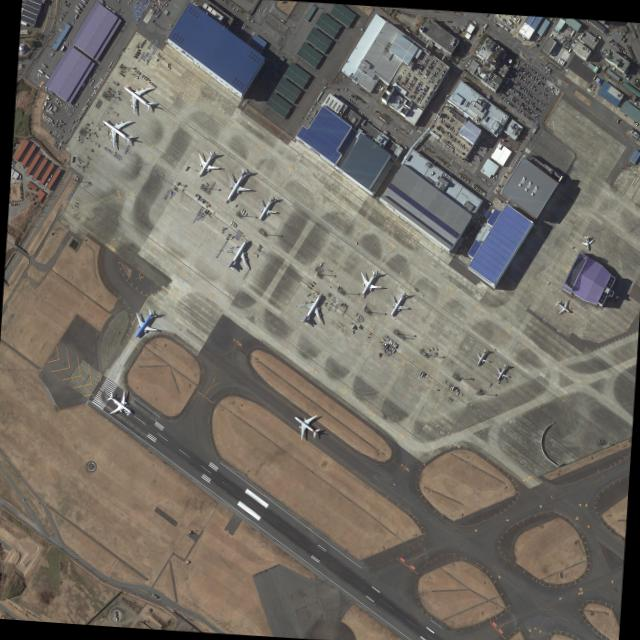large-vehicle: (78, 0, 85, 7), (76, 4, 83, 10), (74, 7, 81, 13), (307, 281, 313, 286), (633, 119, 639, 124), (633, 100, 638, 105), (496, 182, 501, 187), (492, 21, 497, 26), (516, 17, 520, 23), (483, 22, 487, 28), (60, 44, 64, 50), (41, 62, 46, 66), (306, 284, 311, 288), (163, 8, 167, 13), (472, 19, 477, 23), (615, 117, 619, 122), (44, 180, 48, 185), (512, 16, 517, 20), (507, 19, 512, 23), (119, 68, 123, 72), (106, 88, 110, 92), (107, 85, 111, 89), (111, 88, 115, 92), (429, 345, 433, 349), (492, 346, 496, 350), (546, 280, 550, 284), (111, 8, 115, 12), (512, 18, 516, 22), (82, 0, 87, 3), (165, 9, 168, 14), (502, 174, 507, 177), (47, 176, 50, 181), (109, 92, 113, 95), (165, 1, 168, 5), (110, 91, 114, 94), (66, 3, 69, 7), (420, 293, 424, 296), (327, 284, 331, 287), (448, 383, 451, 387), (76, 159, 80, 162), (497, 379, 500, 383), (488, 92, 491, 96), (462, 38, 466, 41), (625, 76, 629, 79), (494, 188, 498, 191), (505, 170, 509, 173), (434, 346, 437, 349), (105, 110, 108, 113), (102, 122, 105, 125), (503, 376, 506, 379), (634, 122, 637, 125), (105, 4, 108, 7), (108, 6, 111, 9), (50, 173, 53, 176), (355, 240, 357, 244), (503, 379, 507, 381), (100, 0, 104, 2), (502, 17, 504, 21), (314, 109, 316, 112), (309, 118, 311, 121), (313, 111, 315, 114), (315, 108, 317, 111), (64, 0, 67, 2), (488, 383, 490, 386), (516, 16, 518, 19), (310, 116, 312, 118), (312, 114, 314, 116), (13, 180, 15, 182), (117, 0, 119, 1)
plane: (91, 102, 142, 158), (112, 70, 161, 123), (213, 160, 257, 211), (289, 283, 334, 331), (215, 228, 257, 278), (125, 299, 167, 348), (188, 138, 229, 186), (285, 402, 326, 448), (349, 260, 388, 304), (100, 382, 139, 426), (381, 280, 419, 323), (250, 186, 285, 227), (469, 341, 495, 370), (490, 357, 515, 384), (551, 293, 575, 318), (581, 232, 594, 251)
small-vehicle: (424, 98, 428, 102), (420, 104, 424, 107), (225, 0, 228, 4), (247, 16, 250, 20), (229, 3, 232, 7), (235, 7, 238, 11), (71, 19, 74, 23), (22, 496, 25, 500), (63, 10, 67, 13), (463, 177, 466, 181), (448, 125, 451, 129), (466, 179, 469, 183), (487, 181, 490, 185), (458, 142, 461, 146), (471, 183, 474, 187), (412, 137, 416, 140), (447, 107, 450, 111), (394, 126, 397, 130), (549, 32, 552, 36), (555, 86, 558, 90), (636, 67, 640, 70), (550, 88, 553, 92), (537, 107, 540, 111), (531, 103, 534, 107), (551, 91, 554, 95), (536, 79, 539, 83), (543, 94, 546, 98), (623, 50, 626, 54), (234, 202, 237, 206), (436, 79, 440, 82), (506, 99, 509, 103), (509, 86, 512, 90), (422, 101, 426, 104), (425, 96, 428, 100), (428, 92, 431, 96), (431, 87, 435, 90), (527, 64, 530, 68), (532, 118, 535, 122), (525, 113, 528, 117), (522, 87, 525, 91), (515, 70, 518, 74), (408, 87, 411, 90), (408, 73, 411, 76), (413, 79, 416, 82), (412, 80, 415, 83), (408, 82, 411, 85), (407, 84, 410, 87), (405, 78, 408, 81), (404, 79, 407, 82), (403, 81, 406, 84), (403, 67, 406, 70), (416, 88, 419, 91), (417, 81, 420, 84), (419, 83, 422, 86), (418, 85, 421, 88), (417, 87, 420, 90), (415, 90, 418, 93), (412, 90, 415, 93), (410, 93, 413, 96), (409, 94, 412, 97), (413, 92, 416, 95), (411, 96, 414, 99), (413, 74, 416, 77), (401, 70, 404, 73), (478, 157, 481, 160), (473, 145, 476, 148), (477, 156, 480, 159), (466, 62, 469, 65), (479, 155, 482, 158), (472, 149, 475, 152), (480, 132, 483, 135), (467, 60, 470, 63), (516, 155, 519, 158), (515, 157, 518, 160), (514, 159, 517, 162), (468, 58, 471, 61), (417, 99, 420, 102), (435, 71, 438, 74), (434, 73, 437, 76), (428, 64, 431, 67), (427, 65, 430, 68), (426, 66, 429, 69), (425, 67, 428, 70), (431, 58, 434, 61), (434, 58, 437, 61), (437, 68, 440, 71), (427, 70, 430, 73), (426, 71, 429, 74), (438, 67, 441, 70), (415, 98, 418, 101), (441, 71, 444, 74), (442, 70, 445, 73), (444, 66, 447, 69), (465, 21, 468, 24), (464, 23, 467, 26), (445, 19, 448, 22), (435, 65, 438, 68), (429, 62, 432, 65), (440, 62, 443, 65), (440, 63, 443, 66), (419, 68, 422, 71), (416, 97, 419, 100), (424, 89, 427, 92), (423, 90, 426, 93), (420, 67, 423, 70), (421, 65, 424, 68), (422, 64, 425, 67), (427, 79, 430, 82), (424, 56, 427, 59), (422, 59, 425, 62), (419, 64, 422, 67), (224, 0, 227, 3), (306, 113, 309, 116), (304, 116, 307, 119), (282, 34, 285, 37), (237, 18, 240, 21), (239, 20, 242, 23), (236, 24, 239, 27), (241, 25, 244, 28), (236, 33, 239, 36), (234, 28, 237, 31), (232, 6, 235, 9), (231, 5, 234, 8), (465, 63, 468, 66), (439, 249, 442, 252), (62, 13, 65, 16), (63, 36, 66, 39), (51, 51, 54, 54), (50, 53, 53, 56), (307, 111, 310, 114), (459, 174, 462, 177), (458, 173, 461, 176), (457, 126, 460, 129), (452, 118, 455, 121), (446, 130, 449, 133), (451, 128, 454, 131), (452, 135, 455, 138), (452, 138, 455, 141), (445, 164, 448, 167), (449, 109, 452, 112), (465, 139, 468, 142), (460, 144, 463, 147), (465, 147, 468, 150), (458, 154, 461, 157), (480, 176, 483, 179), (482, 177, 485, 180), (483, 192, 486, 195), (479, 189, 482, 192), (475, 187, 478, 190), (474, 186, 477, 189), (472, 184, 475, 187), (450, 142, 453, 145), (422, 146, 425, 149), (365, 104, 368, 107), (431, 124, 434, 127), (439, 128, 442, 131), (440, 126, 443, 129), (439, 74, 442, 77), (438, 77, 441, 80), (601, 48, 604, 51), (601, 47, 604, 50), (602, 46, 605, 49), (591, 86, 594, 89), (556, 30, 559, 33), (562, 35, 565, 38), (613, 43, 616, 46), (601, 52, 604, 55), (563, 36, 566, 39), (529, 99, 532, 102), (532, 104, 535, 107), (525, 99, 528, 102), (523, 98, 526, 101), (531, 109, 534, 112), (545, 88, 548, 91), (543, 85, 546, 88), (542, 90, 545, 93), (541, 93, 544, 96), (530, 85, 533, 88), (532, 95, 535, 98), (535, 97, 538, 100), (426, 37, 429, 40), (561, 34, 564, 37), (425, 38, 428, 41), (518, 90, 521, 93), (413, 64, 416, 67), (430, 60, 433, 63), (628, 72, 631, 75), (629, 71, 632, 74), (613, 40, 616, 43), (617, 42, 620, 45), (620, 48, 623, 51), (116, 91, 119, 94), (382, 348, 385, 351), (505, 93, 508, 96), (510, 97, 513, 100), (504, 92, 507, 95), (504, 98, 507, 101), (513, 90, 516, 93), (519, 94, 522, 97), (514, 96, 517, 99), (500, 88, 503, 91), (499, 90, 502, 93), (497, 92, 500, 95), (430, 88, 433, 91), (433, 84, 436, 87), (506, 85, 509, 88), (542, 67, 545, 70), (545, 70, 548, 73), (539, 74, 542, 77), (534, 70, 537, 73), (532, 69, 535, 72), (529, 66, 532, 69), (522, 61, 525, 64), (515, 63, 518, 66), (514, 65, 517, 68), (511, 85, 514, 88), (504, 132, 507, 135), (503, 131, 506, 134), (535, 34, 538, 37), (534, 35, 537, 38), (521, 20, 524, 23), (518, 108, 521, 111), (510, 24, 513, 27), (506, 22, 509, 25), (517, 108, 520, 111), (531, 112, 534, 115), (525, 108, 528, 111), (523, 106, 526, 109), (531, 118, 534, 121), (530, 117, 533, 120), (512, 77, 515, 80), (513, 78, 516, 81), (521, 87, 524, 90), (531, 76, 534, 79), (528, 71, 531, 74), (526, 73, 529, 76), (525, 69, 528, 72), (523, 67, 526, 70), (246, 15, 248, 19), (490, 173, 492, 177), (482, 191, 484, 195), (477, 187, 479, 191), (350, 92, 352, 96), (620, 79, 622, 83), (545, 95, 547, 99), (548, 94, 550, 98), (533, 86, 535, 90), (508, 100, 510, 104), (506, 98, 508, 102), (543, 76, 545, 80), (538, 72, 540, 76), (536, 71, 538, 75), (524, 62, 526, 66), (520, 58, 522, 62), (519, 33, 521, 37), (522, 69, 524, 73), (517, 71, 519, 75), (414, 78, 416, 81), (412, 81, 414, 84), (411, 83, 414, 85), (410, 84, 413, 86), (406, 86, 409, 88), (407, 75, 409, 78), (411, 78, 414, 80), (406, 77, 408, 80), (404, 80, 406, 83), (402, 83, 405, 85), (401, 80, 404, 82), (404, 75, 407, 77), (407, 71, 410, 73), (399, 74, 402, 76), (417, 82, 419, 85), (415, 85, 418, 87), (414, 87, 417, 89), (420, 81, 423, 83), (413, 89, 416, 91), (412, 76, 415, 78), (413, 94, 416, 96), (412, 95, 415, 97), (414, 77, 417, 79), (398, 75, 401, 77), (480, 134, 483, 136), (478, 137, 481, 139), (477, 138, 480, 140), (476, 140, 479, 142), (475, 141, 478, 143), (475, 142, 478, 144), (473, 144, 476, 146), (481, 155, 483, 158), (478, 153, 480, 156), (473, 150, 475, 153), (472, 152, 474, 155), (397, 77, 400, 79), (397, 78, 399, 81), (511, 165, 514, 167), (479, 144, 482, 146), (481, 141, 484, 143), (483, 141, 486, 143), (480, 146, 483, 148), (479, 148, 482, 150), (490, 139, 492, 142), (489, 141, 492, 143), (488, 143, 491, 145), (485, 147, 488, 149), (484, 149, 487, 151), (482, 152, 485, 154), (418, 80, 421, 82), (425, 69, 428, 71), (432, 57, 434, 60), (432, 62, 435, 64), (431, 64, 434, 66), (430, 65, 433, 67), (429, 67, 432, 69), (428, 69, 430, 72), (450, 19, 452, 22), (440, 74, 443, 76), (441, 72, 443, 75), (443, 69, 445, 72), (444, 67, 446, 70), (462, 25, 465, 27), (457, 25, 459, 28), (438, 61, 441, 63), (437, 63, 439, 66), (439, 65, 442, 67), (432, 71, 435, 73), (431, 73, 434, 75), (417, 96, 420, 98), (425, 83, 427, 86), (424, 85, 427, 87), (423, 86, 426, 88), (423, 87, 426, 89), (422, 88, 425, 90), (421, 89, 424, 91), (420, 91, 423, 93), (419, 92, 422, 94), (418, 94, 421, 96), (417, 95, 420, 97), (427, 85, 430, 87), (423, 91, 425, 94), (422, 92, 424, 95), (420, 96, 423, 98), (421, 66, 423, 69), (429, 76, 432, 78), (431, 77, 433, 80), (430, 79, 433, 81), (428, 79, 431, 81), (423, 71, 426, 73), (425, 55, 427, 58), (423, 58, 426, 60), (421, 61, 424, 63), (421, 62, 423, 65), (426, 58, 429, 60), (425, 60, 427, 63), (424, 62, 427, 64), (423, 63, 426, 65), (438, 76, 441, 78), (223, 0, 226, 2), (305, 115, 307, 118), (258, 7, 260, 10), (234, 24, 236, 27), (242, 24, 245, 26), (240, 27, 243, 29), (239, 29, 242, 31), (9, 202, 11, 205), (62, 13, 65, 15), (60, 16, 63, 18), (52, 68, 54, 71), (52, 50, 54, 53), (50, 53, 53, 55), (44, 35, 46, 38), (8, 202, 10, 205), (13, 202, 15, 205), (309, 108, 312, 110), (445, 130, 448, 132), (454, 132, 457, 134), (443, 104, 446, 106), (451, 125, 454, 127), (451, 116, 454, 118), (447, 125, 449, 128), (446, 124, 448, 127), (445, 123, 447, 126), (448, 131, 450, 134), (450, 127, 452, 130), (451, 137, 453, 140), (455, 151, 457, 154), (452, 149, 454, 152), (442, 161, 444, 164), (461, 175, 463, 178), (467, 140, 469, 143), (462, 145, 464, 148), (494, 175, 497, 177), (489, 182, 491, 185), (484, 178, 486, 181), (441, 161, 443, 164), (448, 140, 450, 143), (351, 93, 353, 96), (430, 125, 433, 127), (355, 102, 357, 105), (353, 101, 355, 104), (350, 98, 352, 101), (355, 96, 357, 99), (348, 97, 350, 100), (352, 94, 354, 97), (443, 138, 445, 141), (349, 92, 351, 95), (336, 87, 338, 90), (314, 100, 317, 102), (313, 101, 316, 103), (312, 103, 315, 105), (310, 106, 313, 108), (432, 123, 435, 125), (432, 122, 435, 124), (433, 120, 436, 122), (449, 118, 452, 120), (448, 122, 450, 125), (445, 114, 447, 117), (452, 111, 454, 114), (451, 110, 453, 113), (446, 106, 448, 109), (440, 109, 443, 111), (438, 127, 440, 130), (437, 126, 439, 129), (437, 123, 439, 126), (440, 119, 442, 122), (442, 118, 444, 121), (440, 116, 442, 119), (597, 64, 600, 66), (597, 54, 600, 56), (598, 53, 601, 55), (599, 51, 602, 53), (604, 48, 607, 50), (608, 75, 610, 78), (624, 112, 627, 114), (599, 64, 601, 67), (594, 83, 596, 86), (593, 84, 595, 87), (551, 35, 553, 38), (554, 28, 556, 31), (555, 29, 557, 32), (602, 51, 605, 53), (636, 60, 638, 63), (612, 42, 614, 45), (611, 41, 613, 44), (610, 40, 612, 43), (609, 40, 612, 42), (609, 39, 611, 42), (610, 37, 612, 40), (638, 84, 640, 87), (635, 57, 637, 60), (629, 43, 631, 46), (635, 24, 637, 27), (615, 28, 618, 30), (601, 53, 603, 56), (530, 102, 532, 105), (535, 106, 537, 109), (541, 107, 543, 110), (539, 109, 541, 112), (534, 105, 536, 108), (533, 105, 536, 107), (531, 103, 533, 106), (529, 101, 531, 104), (526, 96, 528, 99), (528, 101, 530, 104), (525, 98, 527, 101), (528, 107, 530, 110), (524, 103, 526, 106), (525, 104, 527, 107), (526, 105, 528, 108), (530, 108, 532, 111), (538, 78, 540, 81), (534, 79, 536, 82), (545, 92, 547, 95), (540, 83, 542, 86), (537, 99, 539, 102), (538, 90, 540, 93), (542, 102, 544, 105), (529, 89, 531, 92), (527, 92, 530, 94), (540, 97, 542, 100), (540, 100, 542, 103), (615, 44, 617, 47), (616, 46, 619, 48), (449, 119, 452, 121), (448, 30, 451, 32), (439, 20, 442, 22), (94, 60, 97, 62), (618, 46, 620, 49), (420, 53, 423, 55), (419, 55, 422, 57), (537, 107, 539, 110), (521, 102, 524, 104), (529, 111, 531, 114), (518, 93, 520, 96), (527, 70, 529, 73), (627, 74, 630, 76), (637, 63, 639, 66), (612, 38, 614, 41), (615, 41, 618, 43), (620, 44, 622, 47), (622, 49, 624, 52), (387, 352, 389, 355), (528, 135, 531, 137), (520, 149, 523, 151), (536, 112, 538, 115), (518, 99, 520, 102), (517, 101, 519, 104), (516, 100, 518, 103), (515, 100, 517, 103), (512, 98, 514, 101), (510, 96, 512, 99), (509, 96, 511, 99), (508, 95, 510, 98), (507, 94, 509, 97), (506, 94, 508, 97), (505, 89, 507, 92), (514, 105, 516, 108), (513, 104, 515, 107), (512, 104, 514, 107), (510, 102, 512, 105), (509, 101, 511, 104), (507, 100, 509, 103), (503, 97, 505, 100), (516, 98, 519, 100), (503, 92, 506, 94), (515, 88, 517, 91), (517, 90, 520, 92), (520, 91, 522, 94), (522, 93, 524, 96), (519, 94, 521, 97), (517, 92, 519, 95), (515, 91, 517, 94), (511, 88, 513, 91), (510, 87, 512, 90), (508, 86, 510, 89), (513, 95, 515, 98), (511, 94, 513, 97), (508, 92, 510, 95), (502, 96, 504, 99), (537, 113, 539, 116), (507, 77, 509, 80), (505, 80, 508, 82), (504, 82, 507, 84), (502, 85, 505, 87), (500, 89, 502, 92), (508, 74, 511, 76), (427, 94, 430, 96), (429, 91, 432, 93), (433, 85, 435, 88), (434, 83, 437, 85), (435, 82, 438, 84), (435, 81, 438, 83), (436, 80, 439, 82), (507, 77, 510, 79), (504, 89, 506, 92), (531, 67, 533, 70), (526, 63, 528, 66), (512, 69, 514, 72), (523, 61, 525, 64), (522, 60, 524, 63), (521, 60, 523, 63), (517, 61, 520, 63), (516, 62, 518, 65), (515, 64, 517, 67), (516, 31, 518, 34), (517, 107, 519, 110), (505, 133, 508, 135), (523, 36, 525, 39), (517, 32, 519, 35), (509, 15, 512, 17), (509, 23, 511, 26), (507, 22, 509, 25), (506, 21, 508, 24), (503, 19, 505, 22), (520, 110, 522, 113), (512, 80, 514, 83), (522, 105, 524, 108), (534, 114, 536, 117), (532, 113, 534, 116), (529, 110, 531, 113), (528, 109, 530, 112), (527, 109, 529, 112), (523, 106, 525, 109), (521, 110, 523, 113), (520, 104, 522, 107), (536, 115, 538, 118), (529, 116, 531, 119), (528, 115, 530, 118), (527, 115, 529, 118), (522, 111, 524, 114), (525, 86, 527, 89), (516, 74, 518, 77), (515, 73, 517, 76), (512, 76, 514, 79), (515, 79, 517, 82), (520, 83, 522, 86), (522, 84, 524, 87), (524, 85, 526, 88), (526, 87, 528, 90), (524, 89, 526, 92), (519, 85, 521, 88), (518, 84, 520, 87), (517, 84, 519, 87), (516, 83, 518, 86), (515, 82, 517, 85), (514, 81, 516, 84), (518, 75, 520, 78), (519, 76, 521, 79), (520, 77, 522, 80), (519, 82, 521, 85), (530, 75, 532, 78), (523, 70, 525, 73), (520, 73, 522, 76), (523, 76, 525, 79), (524, 77, 526, 80), (529, 81, 531, 84), (528, 83, 530, 86), (527, 82, 529, 85), (525, 81, 527, 84), (524, 80, 526, 83), (523, 80, 526, 82), (523, 79, 525, 82), (521, 78, 523, 81), (410, 80, 412, 82), (401, 81, 403, 83), (411, 79, 413, 81), (412, 77, 414, 79), (416, 84, 418, 86), (415, 86, 417, 88), (414, 88, 416, 90), (479, 136, 481, 138), (477, 139, 479, 141), (477, 153, 479, 155), (473, 153, 475, 155), (471, 152, 473, 154), (485, 139, 487, 141), (396, 80, 398, 82), (474, 151, 476, 153), (479, 145, 481, 147), (482, 140, 484, 142), (479, 149, 481, 151), (485, 148, 487, 150), (484, 150, 486, 152), (418, 81, 420, 83), (434, 60, 436, 62), (431, 59, 433, 61), (433, 61, 435, 63), (432, 63, 434, 65), (430, 66, 432, 68), (426, 73, 428, 75), (433, 70, 435, 72), (436, 70, 438, 72), (453, 26, 455, 28), (438, 62, 440, 64), (431, 74, 433, 76), (430, 75, 432, 77), (426, 87, 428, 89), (422, 94, 424, 96), (421, 95, 423, 97), (420, 97, 422, 99), (419, 98, 421, 100), (432, 76, 434, 78), (430, 80, 432, 82), (422, 60, 424, 62), (417, 68, 419, 70), (427, 57, 429, 59), (423, 64, 425, 66), (236, 21, 238, 23), (307, 112, 309, 114), (233, 26, 235, 28), (240, 28, 242, 30), (17, 202, 19, 204), (308, 110, 310, 112), (310, 107, 312, 109), (469, 142, 471, 144), (482, 177, 484, 179), (321, 99, 323, 101), (312, 104, 314, 106), (311, 105, 313, 107), (438, 124, 440, 126), (437, 132, 439, 134), (436, 126, 438, 128), (439, 125, 441, 127), (443, 122, 445, 124), (439, 119, 441, 121), (599, 52, 601, 54), (600, 50, 602, 52), (603, 50, 605, 52), (586, 18, 588, 20), (553, 28, 555, 30), (604, 49, 606, 51), (535, 112, 537, 114), (528, 98, 530, 100), (526, 100, 528, 102), (527, 97, 529, 99), (525, 96, 527, 98), (532, 83, 534, 85), (539, 100, 541, 102), (616, 45, 618, 47), (447, 29, 449, 31), (446, 28, 448, 30), (448, 26, 450, 28), (535, 115, 537, 117), (421, 52, 423, 54), (419, 56, 421, 58), (418, 57, 420, 59), (414, 63, 416, 65), (412, 67, 414, 69), (536, 107, 538, 109), (519, 104, 521, 106), (511, 103, 513, 105), (525, 72, 527, 74), (622, 46, 624, 48), (623, 50, 625, 52), (533, 111, 535, 113), (506, 91, 508, 93), (513, 87, 515, 89), (516, 92, 518, 94), (514, 91, 516, 93), (512, 89, 514, 91), (507, 91, 509, 93), (512, 95, 514, 97), (510, 94, 512, 96), (509, 93, 511, 95), (508, 83, 510, 85), (506, 79, 508, 81), (505, 81, 507, 83), (510, 73, 512, 75), (510, 79, 512, 81), (511, 80, 513, 82), (518, 33, 520, 35), (517, 15, 519, 17), (508, 23, 510, 25), (504, 20, 506, 22), (533, 114, 535, 116), (530, 112, 532, 114), (521, 105, 523, 107), (523, 112, 525, 114), (514, 79, 516, 81), (516, 80, 518, 82), (520, 86, 522, 88), (513, 81, 515, 83), (517, 75, 519, 77), (518, 67, 520, 69), (456, 25, 457, 28), (11, 202, 12, 205), (352, 100, 353, 103), (345, 87, 346, 90), (342, 87, 343, 90), (411, 93, 413, 94), (452, 26, 453, 28), (639, 74, 640, 76), (439, 23, 441, 24), (524, 113, 525, 115), (418, 58, 419, 60), (523, 103, 524, 105), (528, 74, 529, 76)
